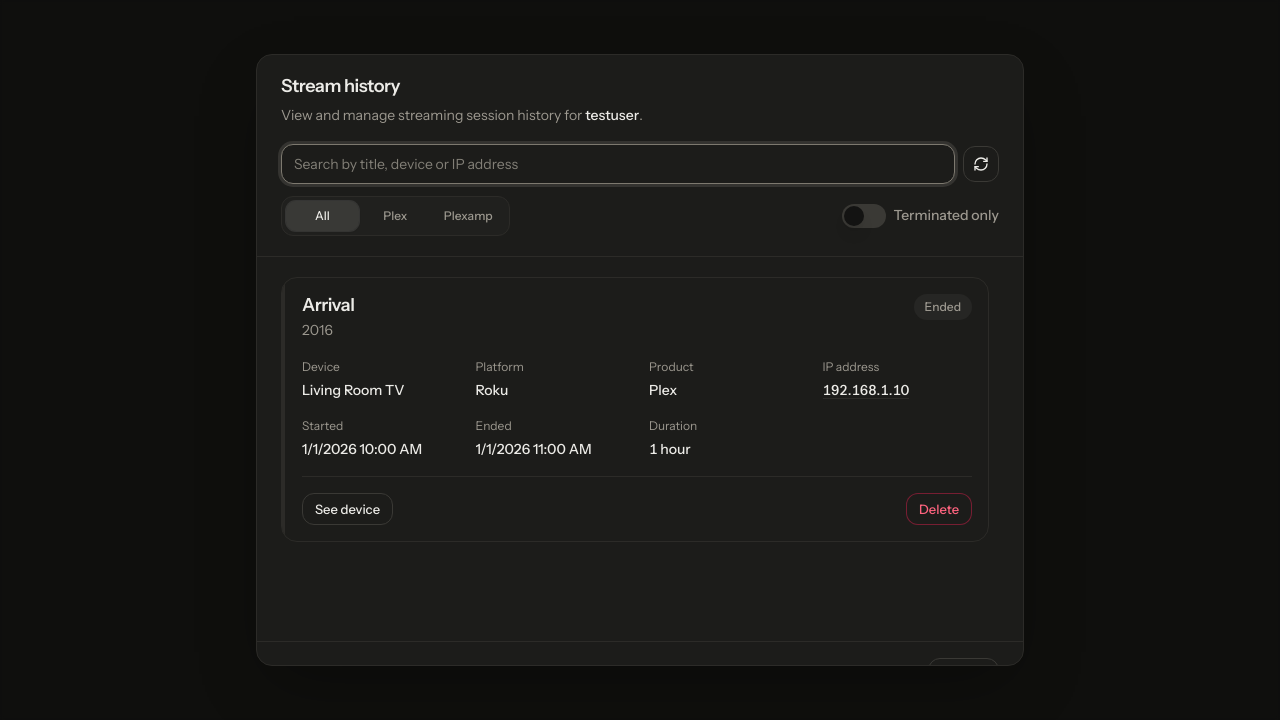
Scenario: UserHistoryModal filtering › keeps the newest filter's sessions when an older reply lands last
The image size is (1280, 720).
Click the button "Plexamp" at (468, 216), box 432,201 -> 505,231
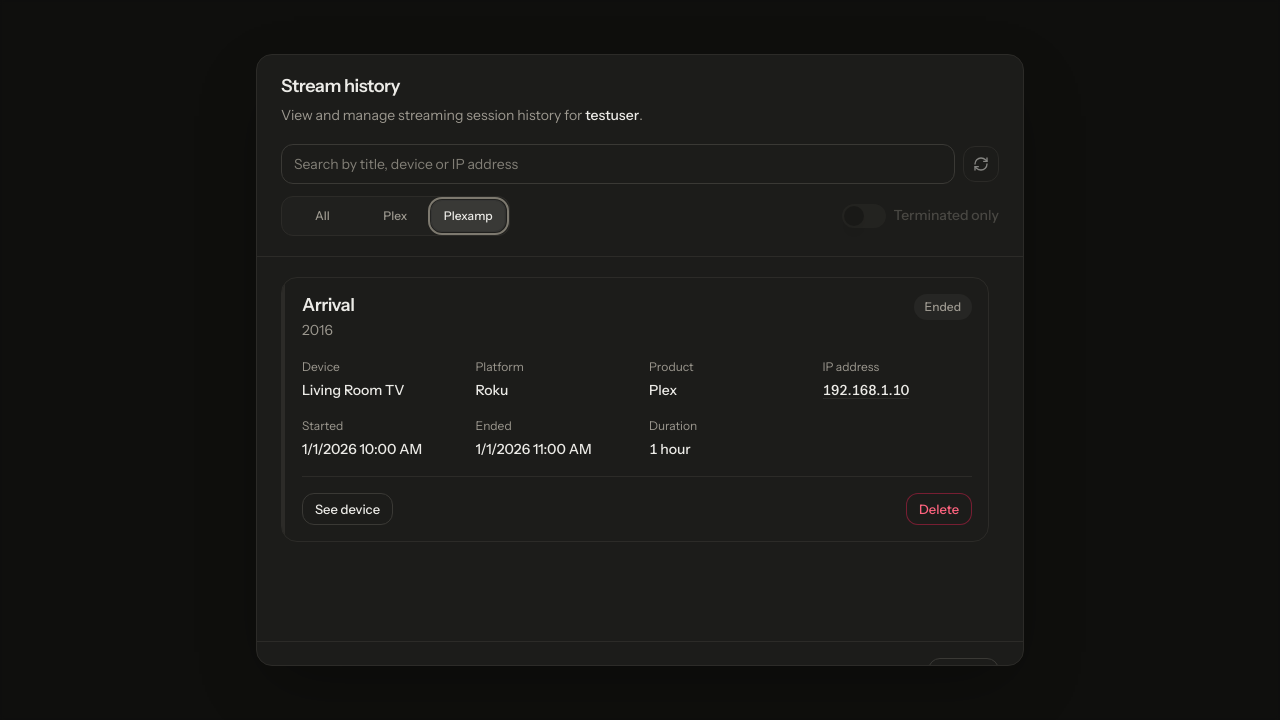
Click the button "Plex" at (395, 216), box 359,201 -> 432,231
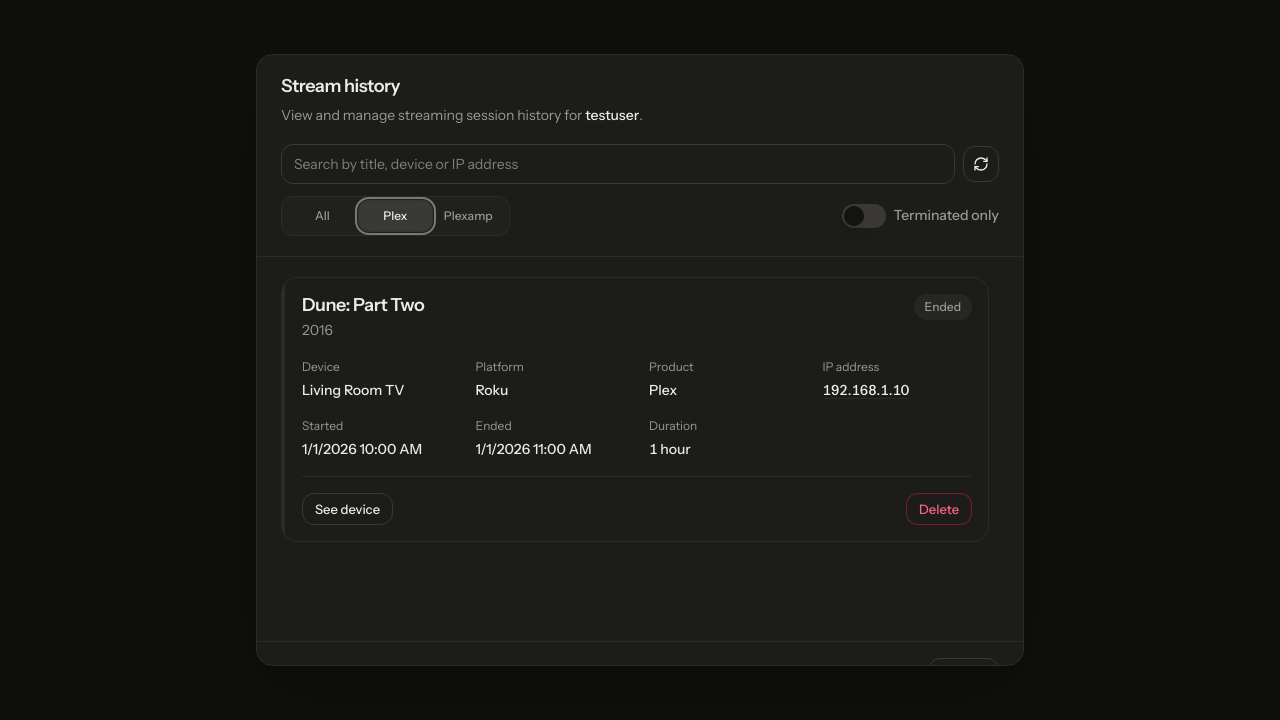
Expected: the heading "Dune: Part Two" is shown, 302,294 -> 424,316
